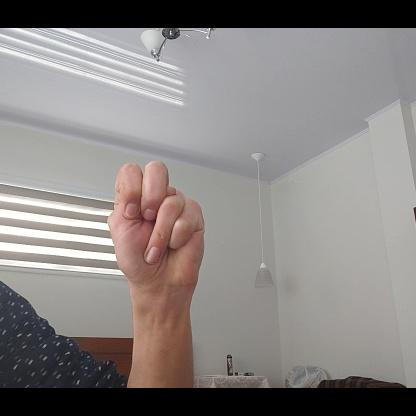N: (107, 157, 208, 303)
